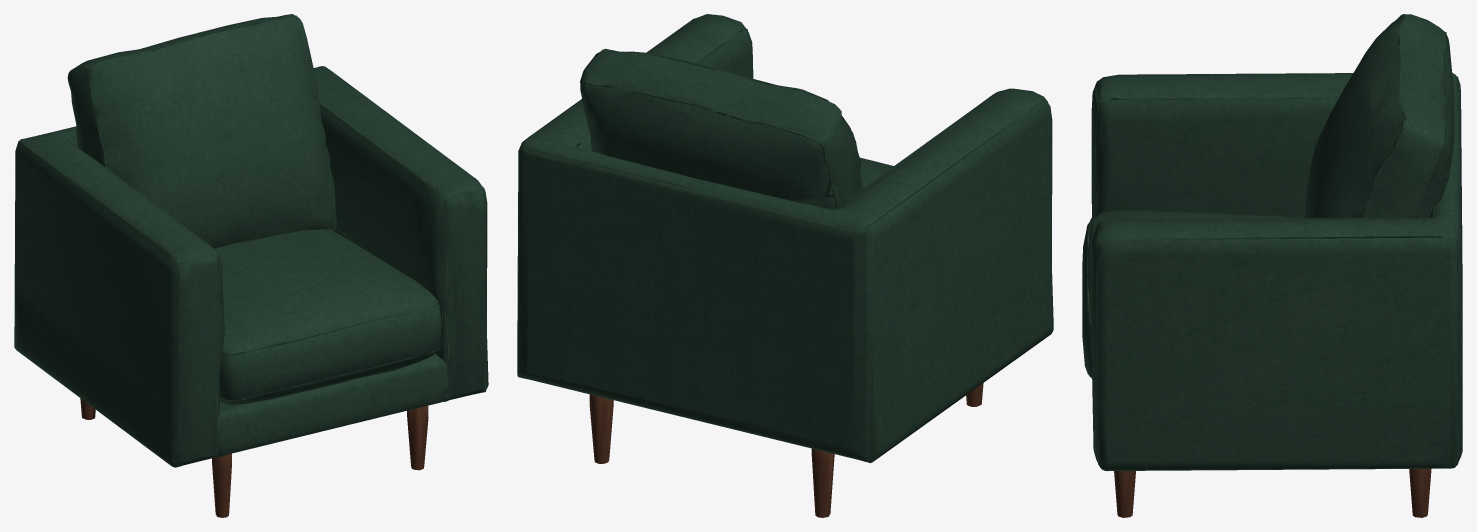
The picture shows the model from 3 angles, left to right: view 1: azimuth 30°, elevation 25°; view 2: azimuth 150°, elevation 25°; view 3: azimuth 270°, elevation 25°; orthographic projection. The views are drawn at different scales.
Parts seen in each view (by area): view 1: visual_RootNode; view 2: visual_RootNode; view 3: visual_RootNode.
Boxes of the visible parts, bbox=[...] form: visual_RootNode: bbox=[14, 14, 488, 517]; visual_RootNode: bbox=[517, 14, 1053, 517]; visual_RootNode: bbox=[1082, 14, 1462, 517].
Bounding box in the file's own units: 0.8546 × 0.8003 × 0.9266.
Materials: 1 (1 with a texture image).
